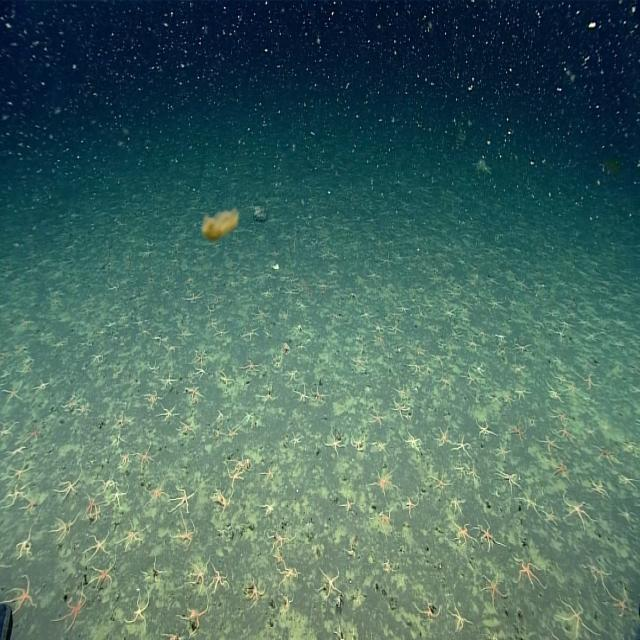brittle-stars: (4, 572, 41, 621), (59, 583, 87, 632), (559, 596, 588, 637), (514, 558, 542, 592), (127, 589, 150, 630), (564, 494, 590, 530), (172, 515, 196, 552), (4, 460, 33, 488), (316, 568, 343, 598), (181, 604, 208, 633), (86, 564, 115, 590), (207, 566, 232, 596), (171, 482, 193, 516), (478, 522, 502, 553), (86, 530, 112, 558), (593, 439, 615, 471), (482, 573, 502, 607), (18, 523, 34, 563), (106, 481, 127, 511), (121, 524, 147, 548), (56, 477, 82, 501), (54, 514, 74, 544), (325, 428, 346, 456), (610, 591, 631, 619), (496, 467, 520, 491), (517, 489, 540, 514), (451, 605, 472, 632), (268, 531, 293, 553), (258, 384, 280, 409), (247, 577, 264, 607), (228, 466, 245, 496), (506, 418, 527, 442), (415, 602, 440, 622), (373, 468, 393, 493), (452, 521, 472, 546), (191, 561, 209, 588), (452, 436, 474, 458), (4, 382, 25, 405), (138, 440, 154, 470), (474, 418, 494, 442), (550, 457, 570, 481), (590, 477, 610, 501), (295, 384, 312, 411), (84, 488, 100, 516), (583, 372, 601, 396), (26, 422, 43, 447), (402, 433, 423, 453), (618, 502, 634, 528), (391, 397, 409, 420), (537, 435, 561, 452), (142, 388, 162, 408), (350, 352, 370, 372), (430, 471, 449, 492), (179, 417, 196, 440), (377, 510, 394, 533), (312, 385, 329, 408), (240, 325, 260, 344), (550, 406, 569, 426), (218, 368, 233, 393), (449, 498, 466, 520), (462, 371, 481, 390), (241, 408, 256, 432), (242, 357, 260, 376), (368, 409, 386, 428), (493, 441, 511, 460), (349, 430, 366, 450), (89, 348, 105, 368), (288, 432, 304, 452), (186, 384, 204, 401), (160, 406, 179, 422), (261, 462, 276, 482), (341, 496, 356, 516), (514, 386, 530, 404), (118, 450, 132, 470), (178, 324, 192, 344), (162, 370, 176, 390), (404, 496, 418, 516), (225, 424, 239, 444), (372, 332, 386, 352), (437, 429, 451, 448), (194, 350, 208, 369), (147, 354, 159, 376), (194, 364, 206, 381)
